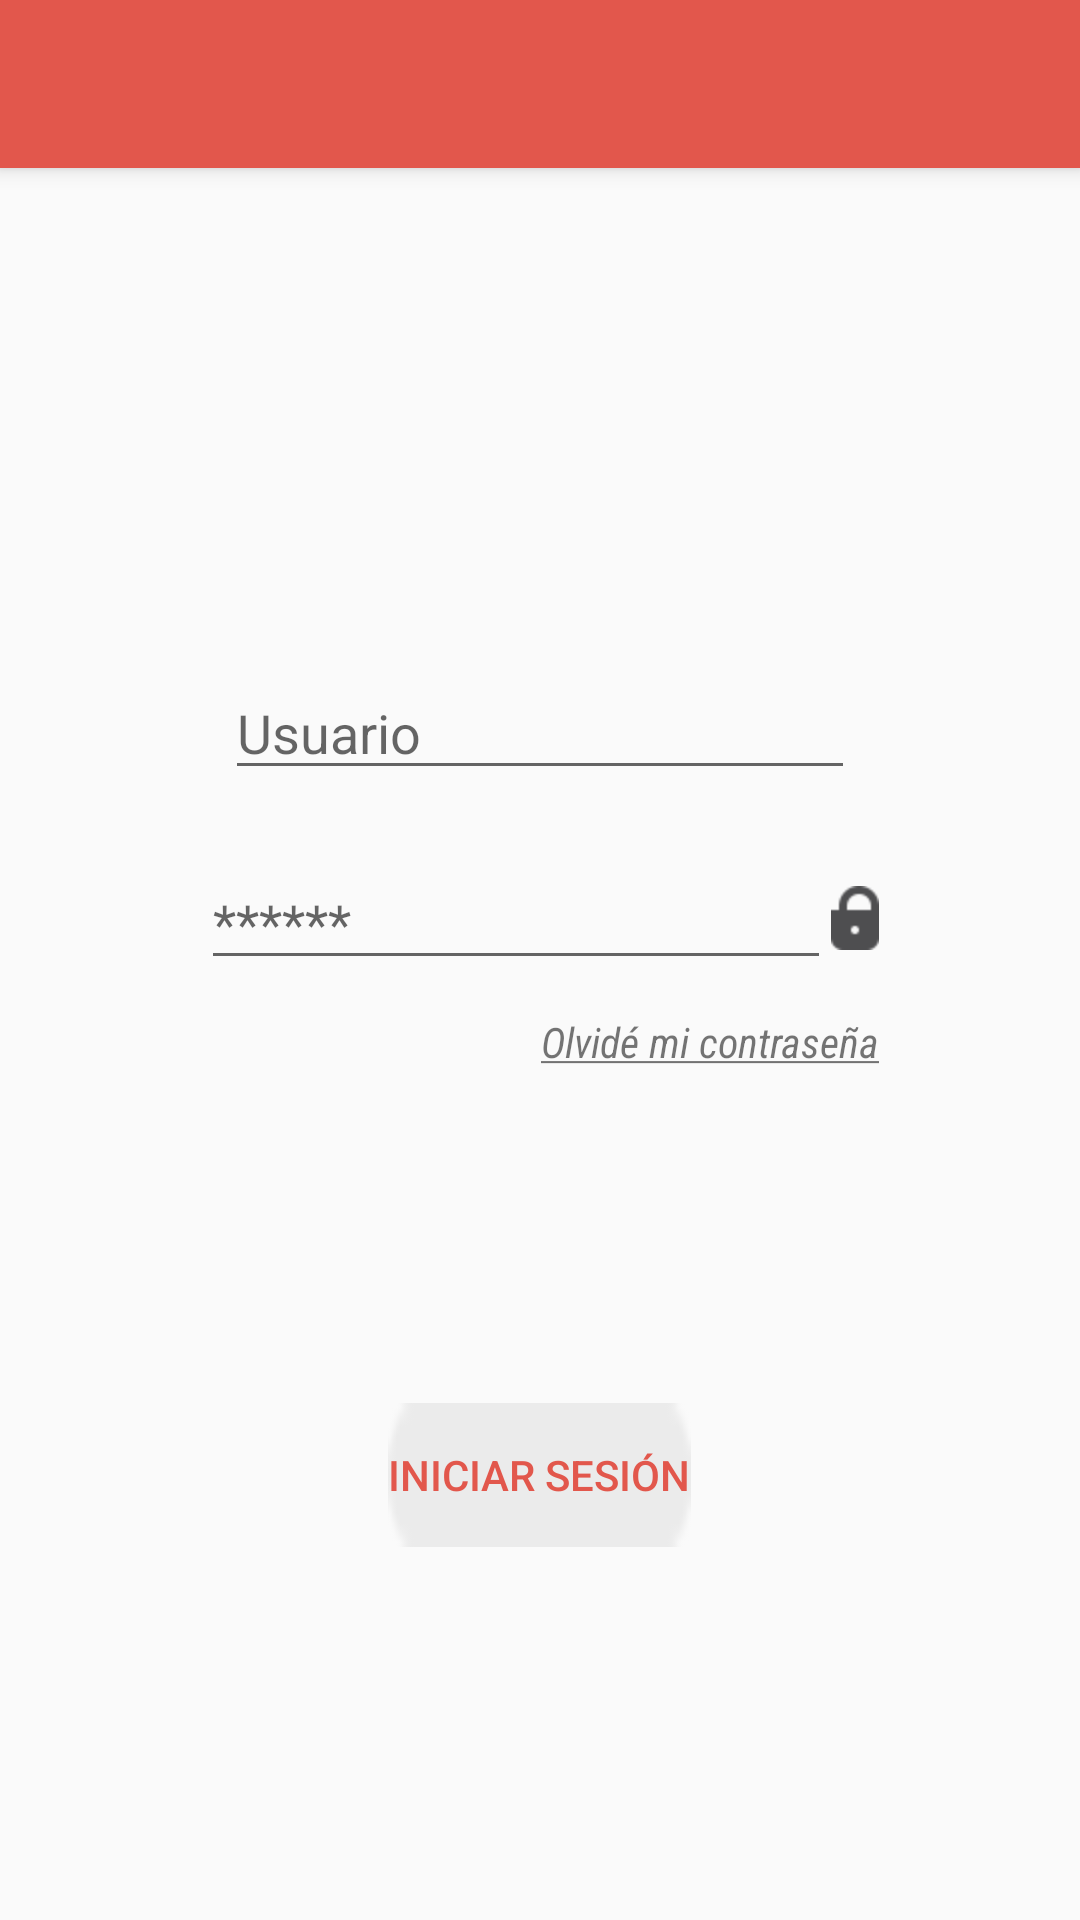

Point at icon controls on the screen. Image size 1080 × 1920, points as [x,y].
lock: [855,918]
